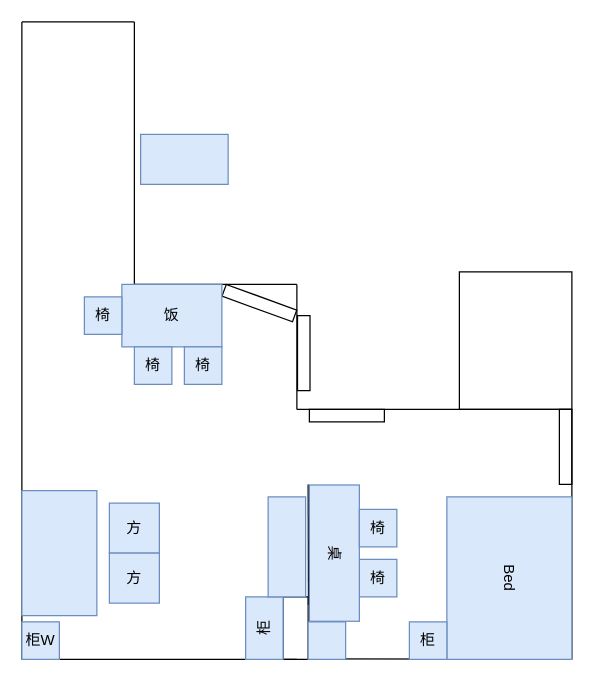
Image size: 595x683. Some labels were removed from this diagram. Each missing label, with the centre of its shape:
"sofa" goes at [59,552].
"TV" goes at [286,546].
"柜TW" goes at [326,640].
"桌W" goes at [183,158].
